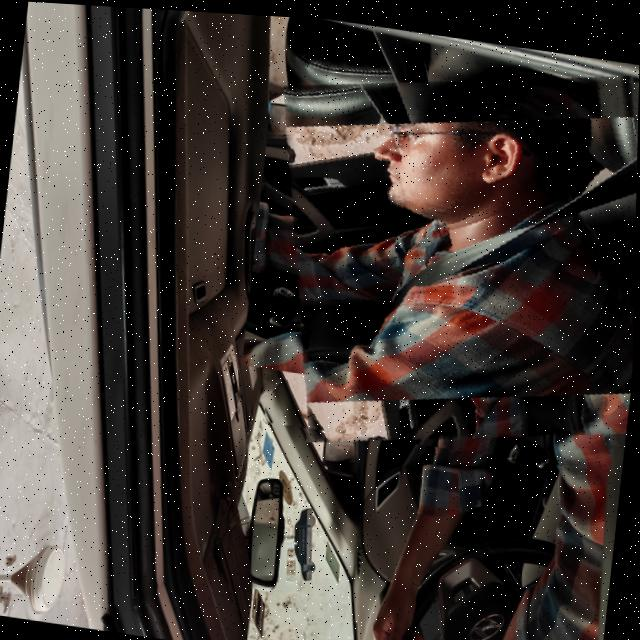seatbelt: (260, 35, 640, 466)
